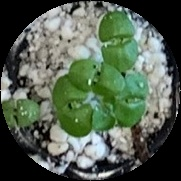Basil: (52, 75, 91, 136), (98, 12, 139, 70), (111, 72, 145, 130), (71, 62, 124, 97), (88, 92, 117, 135), (0, 97, 40, 127)
